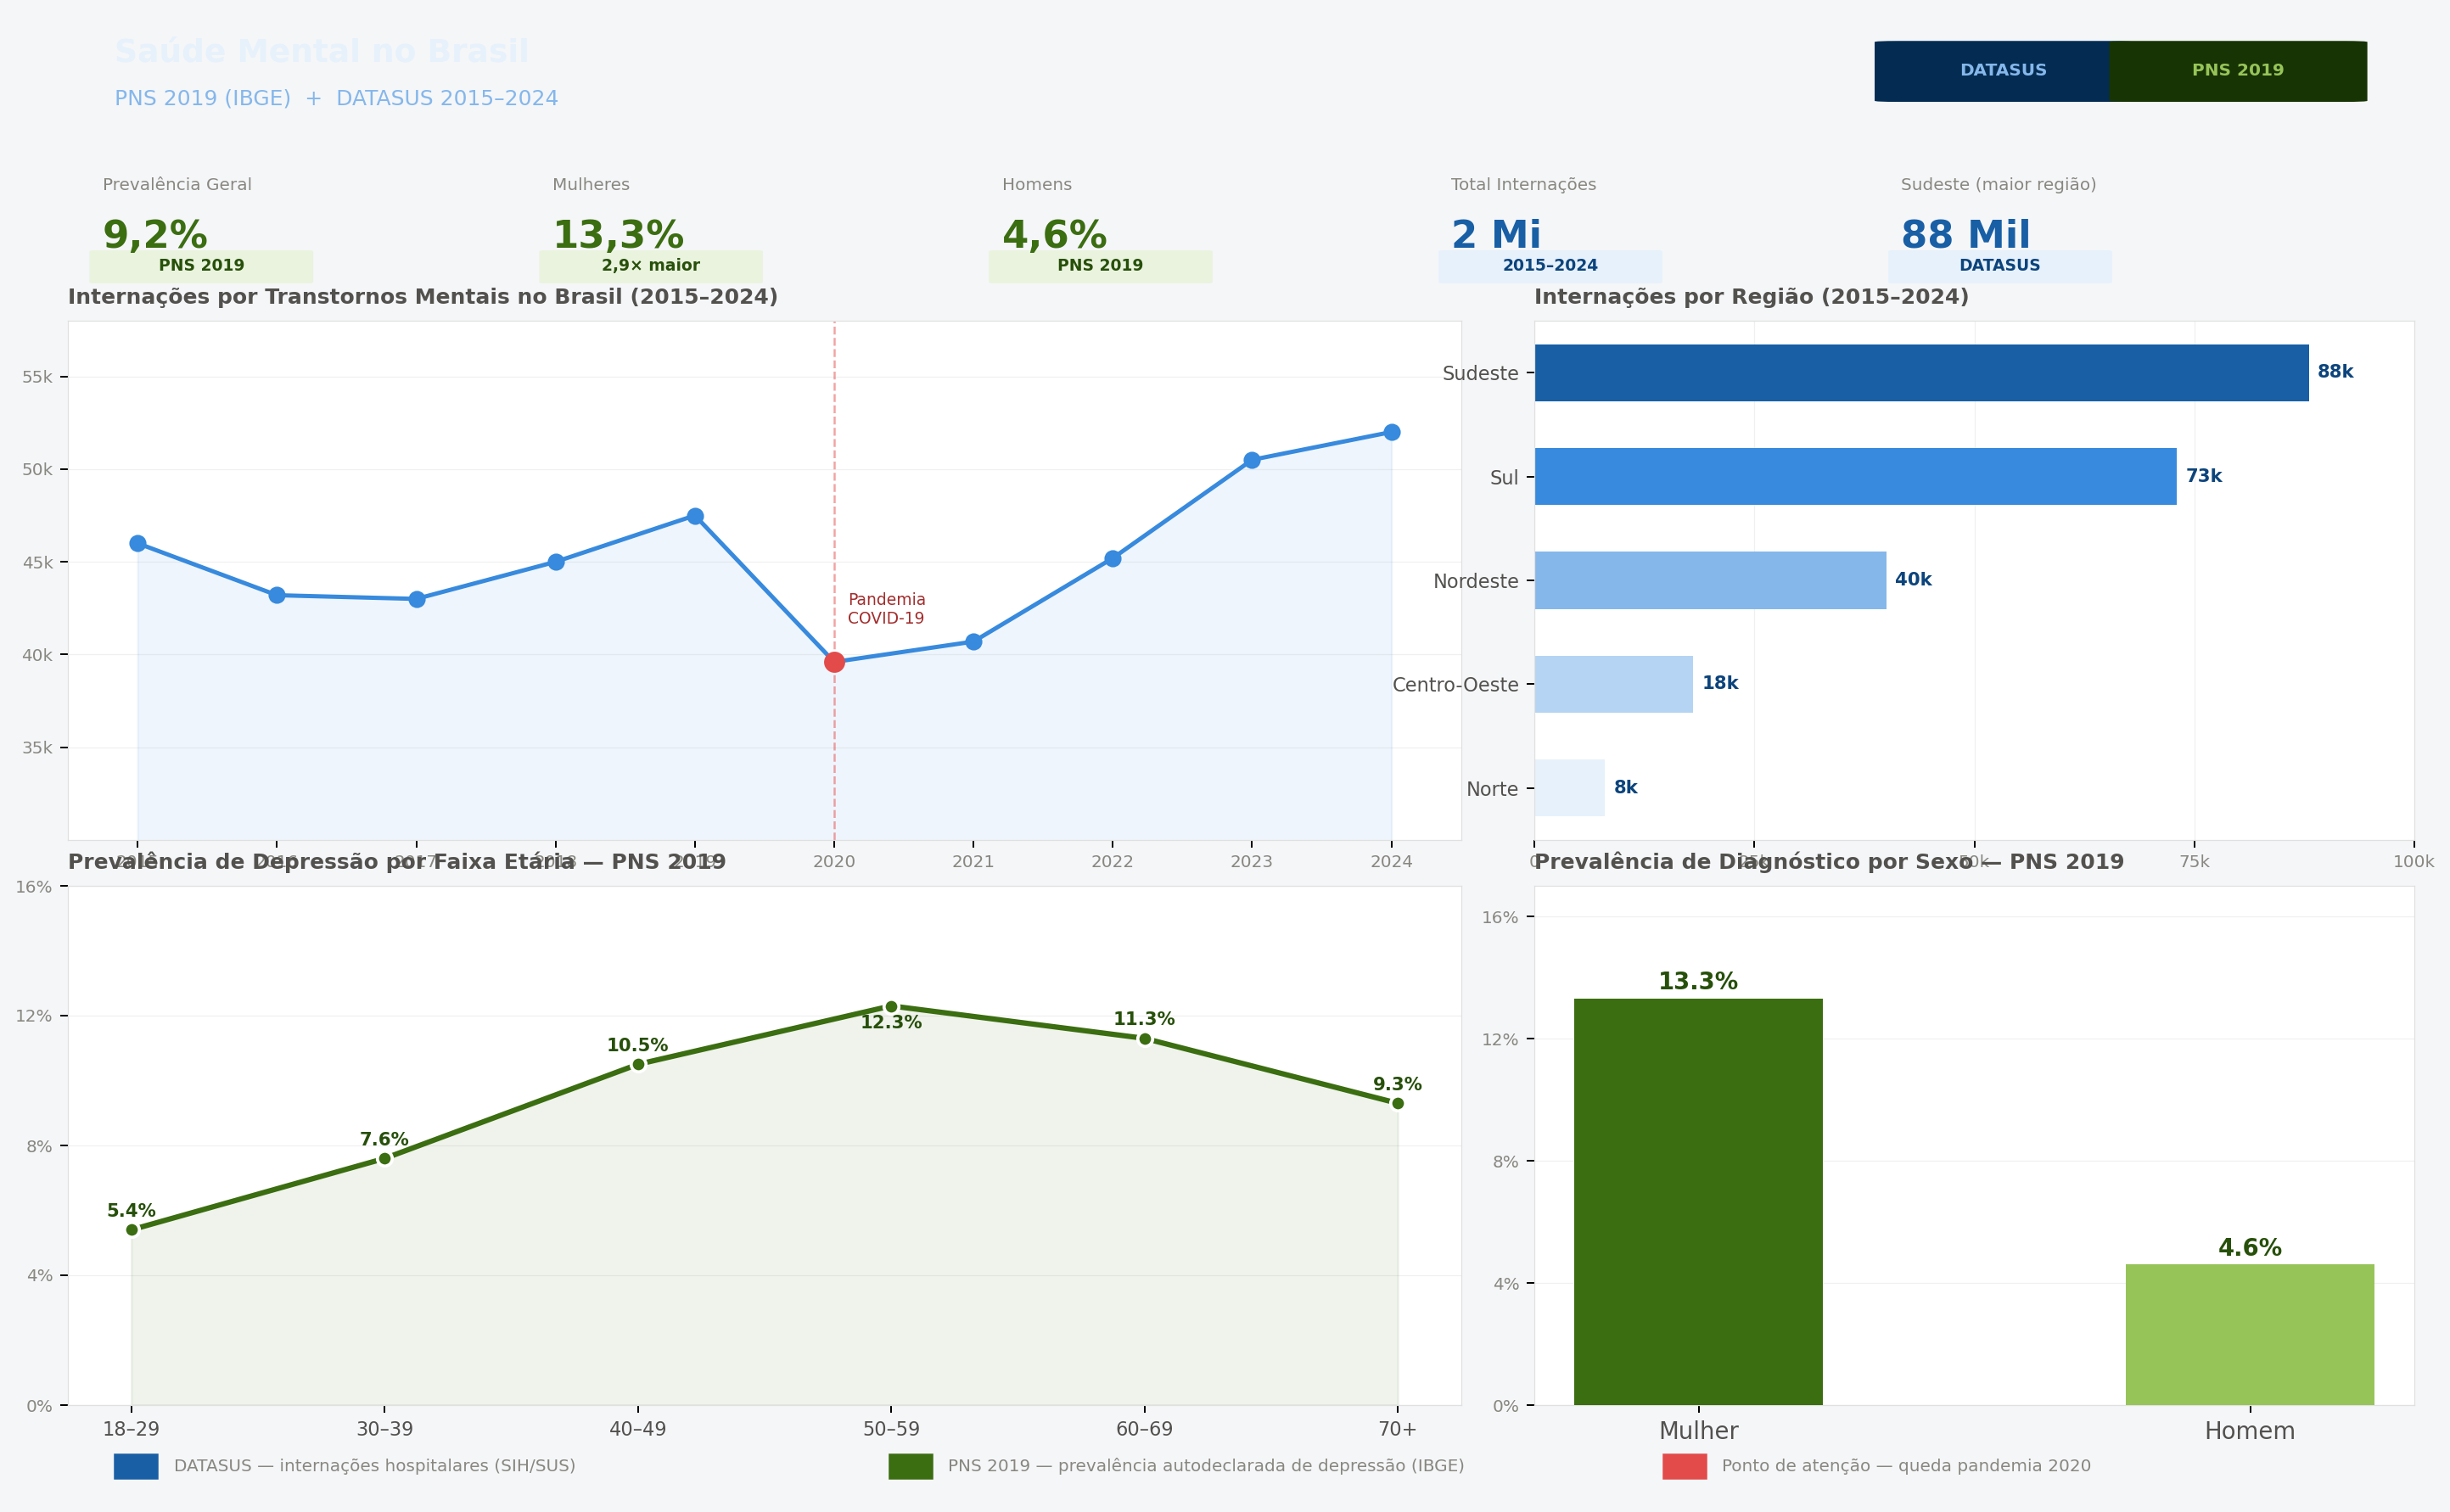

The dashboard page shown, as its layout file describes it:
{"tool":"powerbi","page":{"name":"Gráfico 1","canvas":[1280,720],"ordinal":0},"visuals":[{"type":"lineChart","title":"Internações por Transtornos Mentais no Brasil (2015–2024)","fields":{"Category":["para_powerbi_regioes.ano"],"Y":["Avg(para_powerbi_regioes.internacoes)"]},"box":[64.8,260.6,694.1,208.8],"z":0},{"type":"columnChart","title":"Internações por Região (2015-2024)","fields":{"Category":["para_powerbi_regioes.Região"],"Y":["Avg(para_powerbi_regioes.internacoes)"]},"box":[770.4,260.6,442.1,208.8],"z":1000},{"type":"areaChart","title":"Prevalência de Depressão por Faixa Etária - PNS 2019","fields":{"Category":["para_powerbi_pns.Faixa_Etaria"],"Y":["para_powerbi_pns.Prevalencia_Depressao"]},"box":[64.8,481,684,218.9],"z":2000},{"type":"columnChart","title":"Prevalência de Diagnóstico por Sexo - PNS 2019 ","fields":{"Y":["para_powerbi_pns.Prevalencia_Depressao"],"Category":["para_powerbi_pns.Sexo"]},"box":[770.4,481,437.8,218.9],"z":3000},{"type":"textbox","box":[10.1,13,678.2,41.8],"z":4000},{"type":"slicer","fields":{"Values":["para_powerbi_pns.Sexo"]},"box":[20.2,64.8,329.8,73.4],"z":5000},{"type":"slicer","fields":{"Values":["para_powerbi_pns.Faixa_Etaria"]},"box":[349.9,64.8,373,73.4],"z":6000},{"type":"slicer","fields":{"Values":["para_powerbi_regioes.Região"]},"box":[722.9,64.8,557.3,73.4],"z":7000},{"type":"cardVisual","fields":{"Data":["para_powerbi_pns.Prevalencia_Depressao"]},"box":[0,144,159.8,116.6],"z":8000},{"type":"cardVisual","fields":{"Rows":["para_powerbi_pns.Sexo"],"Data":["para_powerbi_pns.Prevalencia_Depressao"]},"box":[146.9,152.6,548.6,92.2],"z":9000},{"type":"cardVisual","fields":{"Data":["Sum(para_powerbi_regioes.internacoes)"]},"box":[663.8,144,193,106.6],"z":10000},{"type":"cardVisual","fields":{"Rows":["para_powerbi_regioes.Região"],"Data":["Sum(para_powerbi_regioes.internacoes)"]},"box":[856.8,116.6,423.4,162.7],"z":11000}]}

Visuals, with their boxes on the page's 1280x720 design canvas (x1, y1, x2, y2). These are canvas units, not pixel positions in the 2450x1512 screenshot, which may show the page scaled, cropped or inside an application window:
"Internações por Transtornos Mentais no Brasil (2015–2024)" lineChart: BBox(65, 261, 759, 469)
"Internações por Região (2015-2024)" columnChart: BBox(770, 261, 1212, 469)
"Prevalência de Depressão por Faixa Etária - PNS 2019" areaChart: BBox(65, 481, 749, 700)
"Prevalência de Diagnóstico por Sexo - PNS 2019 " columnChart: BBox(770, 481, 1208, 700)
textbox: BBox(10, 13, 688, 55)
slicer - para_powerbi_pns.Sexo: BBox(20, 65, 350, 138)
slicer - para_powerbi_pns.Faixa_Etaria: BBox(350, 65, 723, 138)
slicer - para_powerbi_regioes.Região: BBox(723, 65, 1280, 138)
cardVisual - para_powerbi_pns.Prevalencia_Depressao: BBox(0, 144, 160, 261)
cardVisual - para_powerbi_pns.Sexo x para_powerbi_pns.Prevalencia_Depressao: BBox(147, 153, 696, 245)
cardVisual - Sum(para_powerbi_regioes.internacoes): BBox(664, 144, 857, 251)
cardVisual - para_powerbi_regioes.Região x Sum(para_powerbi_regioes.internacoes): BBox(857, 117, 1280, 279)
